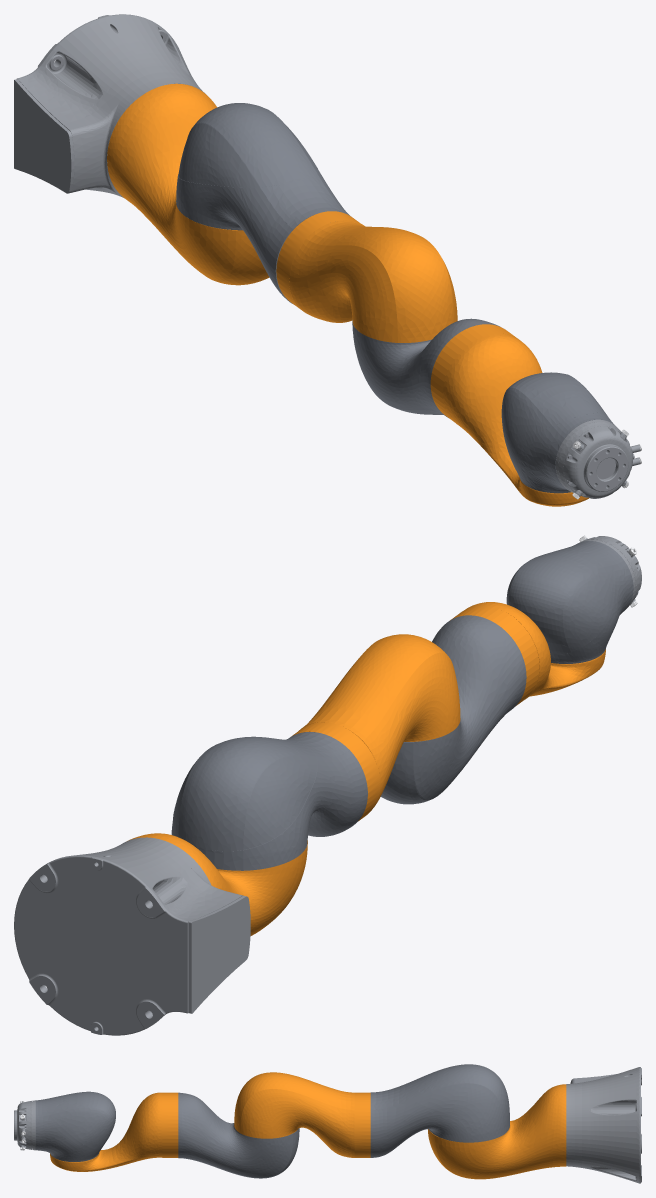
The model's file is kuka_lbr_iiwa.glb.
3 renders of one model, top to bottom at view 1: azimuth 30°, elevation 25°; view 2: azimuth 150°, elevation 25°; view 3: azimuth 270°, elevation 25°, orthographic. The views are drawn at different scales.
Parts seen in each view (by area): view 1: base_link_kuka_graphite, link_3_kuka_orange, link_2_kuka_joint, link_1_kuka_orange, link_5_kuka_orange, link_6_kuka_joint, link_4_kuka_joint, link_7_kuka_graphite; view 2: base_link_kuka_graphite, link_2_kuka_joint, link_3_kuka_orange, link_4_kuka_joint, link_6_kuka_joint, link_1_kuka_orange, link_5_kuka_orange, link_7_kuka_graphite; view 3: link_2_kuka_joint, link_3_kuka_orange, base_link_kuka_graphite, link_1_kuka_orange, link_4_kuka_joint, link_6_kuka_joint, link_5_kuka_orange, link_7_kuka_graphite.
Boxes of the visible parts, x1,y1,x2,y2 form: base_link_kuka_graphite: [14, 14, 205, 197]; link_3_kuka_orange: [276, 211, 457, 342]; link_2_kuka_joint: [176, 103, 349, 303]; link_1_kuka_orange: [107, 83, 269, 285]; link_5_kuka_orange: [430, 324, 589, 506]; link_6_kuka_joint: [501, 372, 614, 493]; link_4_kuka_joint: [352, 318, 500, 417]; link_7_kuka_graphite: [555, 419, 640, 498]; base_link_kuka_graphite: [14, 837, 250, 1035]; link_2_kuka_joint: [171, 732, 367, 870]; link_3_kuka_orange: [291, 634, 460, 821]; link_4_kuka_joint: [380, 615, 526, 804]; link_6_kuka_joint: [506, 541, 633, 663]; link_1_kuka_orange: [128, 833, 307, 935]; link_5_kuka_orange: [450, 602, 605, 706]; link_7_kuka_graphite: [579, 536, 641, 607]; link_2_kuka_joint: [370, 1064, 509, 1157]; link_3_kuka_orange: [234, 1072, 370, 1157]; base_link_kuka_graphite: [566, 1067, 641, 1183]; link_1_kuka_orange: [428, 1084, 566, 1179]; link_4_kuka_joint: [178, 1092, 299, 1178]; link_6_kuka_joint: [35, 1091, 115, 1161]; link_5_kuka_orange: [50, 1092, 178, 1171]; link_7_kuka_graphite: [14, 1100, 35, 1150].
Size of the model in its own units: 0.2575 by 0.2535 by 1.31.
